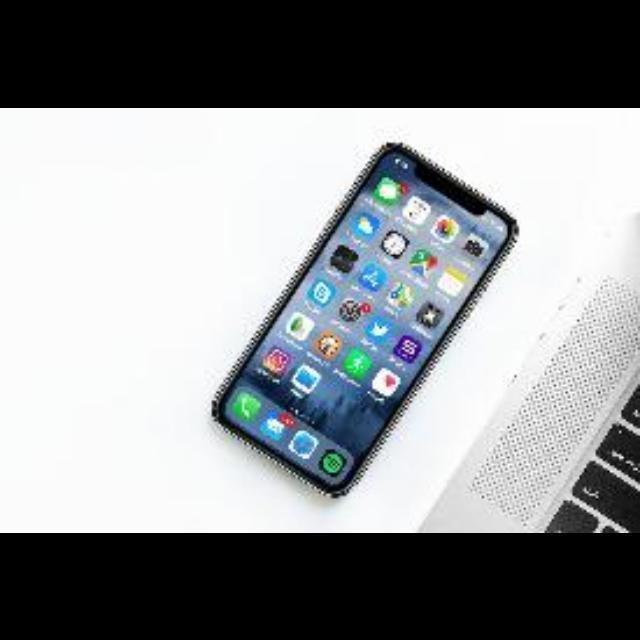phone: (209, 141, 515, 493)
